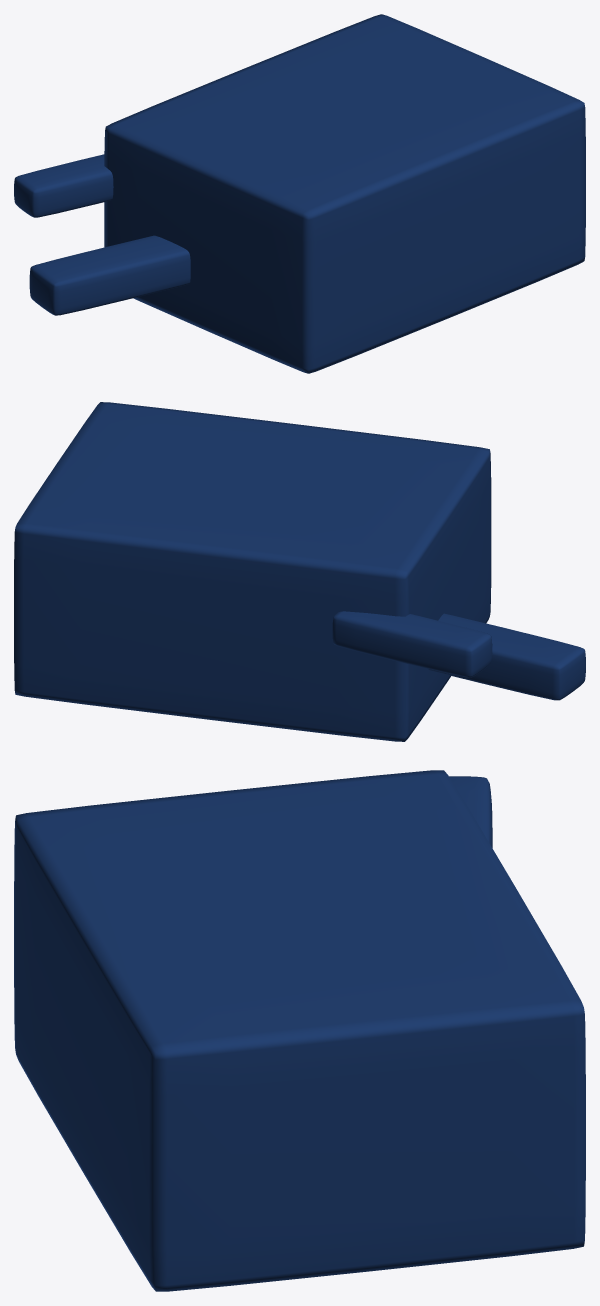
The model's file is mirror_l.glb.
3 views of the same model, one above another, from view 1: azimuth 30°, elevation 25°; view 2: azimuth 150°, elevation 25°; view 3: azimuth 270°, elevation 25° (orthographic). The views are drawn at different scales.
Parts seen in each view (by area): view 1: GEO_Mirror_L; view 2: GEO_Mirror_L; view 3: GEO_Mirror_L.
Part boxes in pixels (bbox=[...]): GEO_Mirror_L: bbox=[14, 14, 585, 373]; GEO_Mirror_L: bbox=[14, 402, 585, 741]; GEO_Mirror_L: bbox=[14, 770, 585, 1291].
Size of the model in its own units: 0.2203 by 0.0699 by 0.1452.
